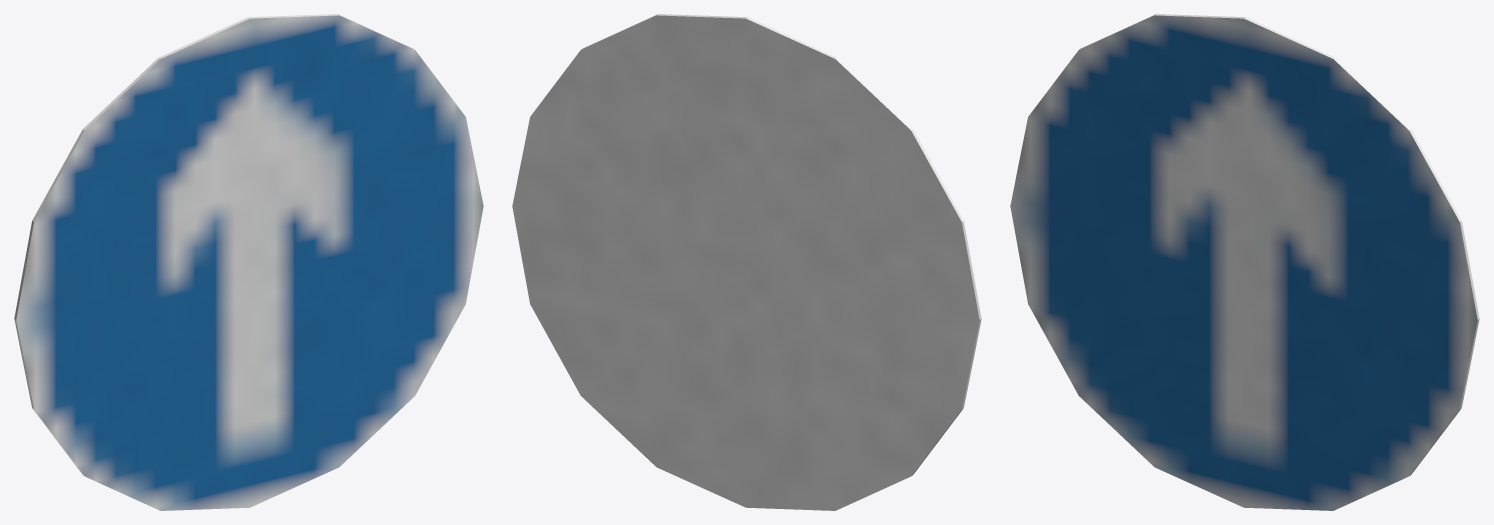
The model's file is Sign_07.glb.
3 views of the same model, side by side, from view 1: azimuth 30°, elevation 25°; view 2: azimuth 150°, elevation 25°; view 3: azimuth 330°, elevation 25° (orthographic).
Visible parts, largest first — view 1: Sign_07.001; view 2: Sign_07.001; view 3: Sign_07.001.
Boxes of the visible parts, bbox=[...] form: Sign_07.001: bbox=[14, 14, 483, 510]; Sign_07.001: bbox=[512, 14, 981, 510]; Sign_07.001: bbox=[1010, 14, 1479, 510].
Bounding box in the file's own units: 0.384 × 0.384 × 0.0028.
Materials: 1 (1 with a texture image).
